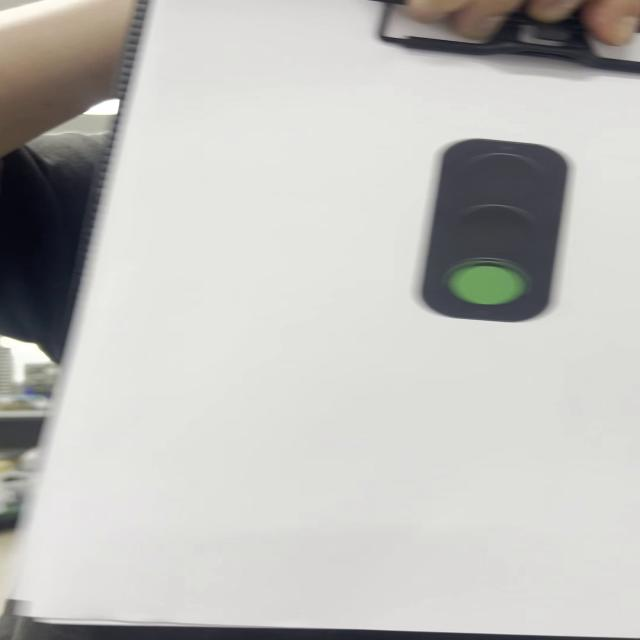green: (428, 140, 570, 325)
